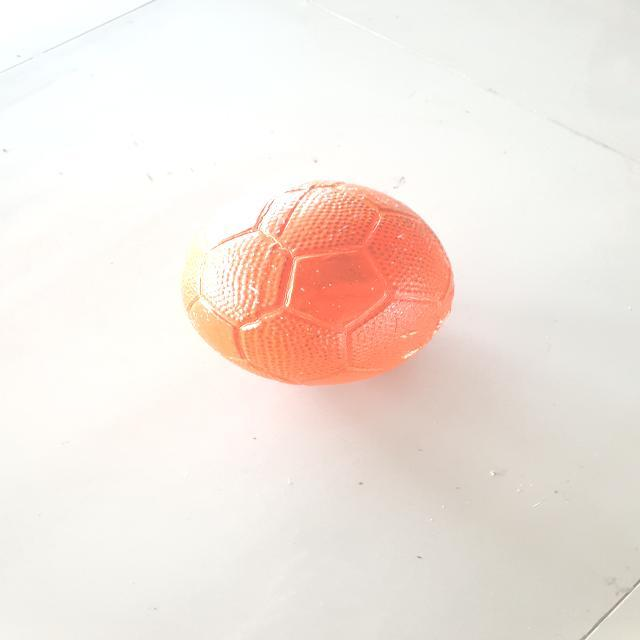bola: (162, 166, 478, 406)
